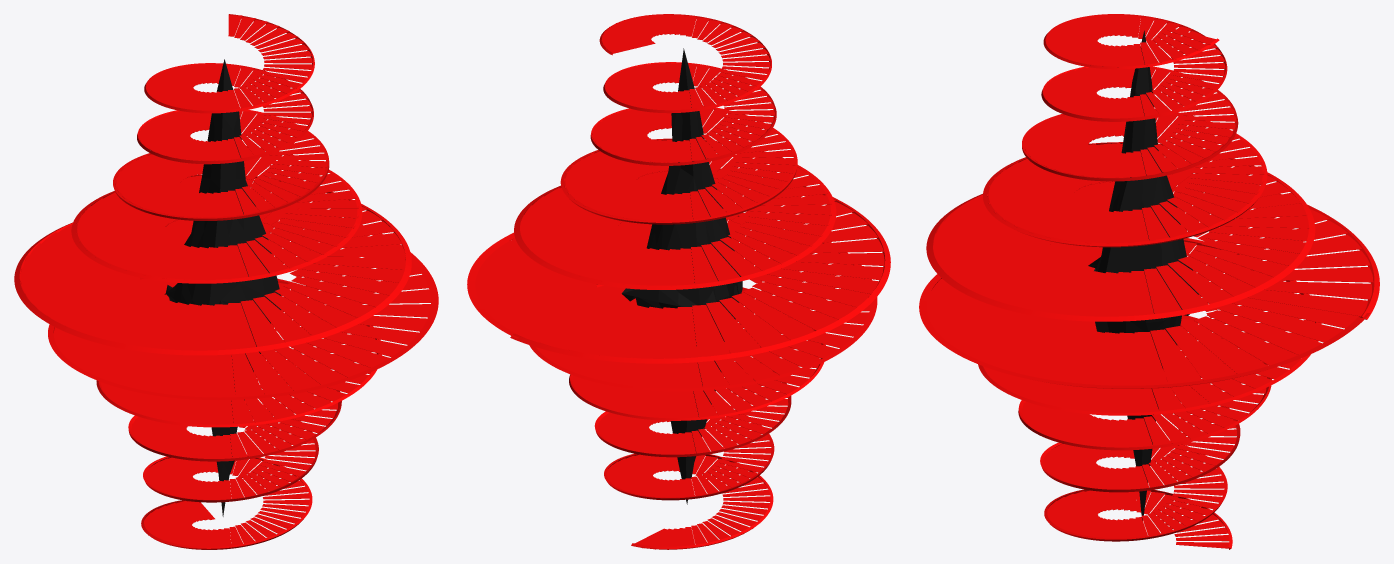
The model's file is TowerPrototype.FBX.
3 renders of one model, left to right at view 1: azimuth 30°, elevation 25°; view 2: azimuth 150°, elevation 25°; view 3: azimuth 270°, elevation 25°, orthographic. The views are drawn at different scales.
Parts seen in each view (by area): view 1: Stair, Rails, Pyramid003; view 2: Stair, Rails, Pyramid003; view 3: Stair, Rails, Pyramid003.
Part boxes in pixels (x1,y1,x2,y2): Stair: (20,15,430,549); Rails: (14,14,438,549); Pyramid003: (164,59,280,516); Stair: (475,14,884,549); Rails: (467,14,890,549); Pyramid003: (621,48,742,504); Stair: (926,14,1373,548); Rails: (919,14,1379,549); Pyramid003: (1088,30,1198,520).
Size of the model in its own units: 9658 by 9669 by 12162.
